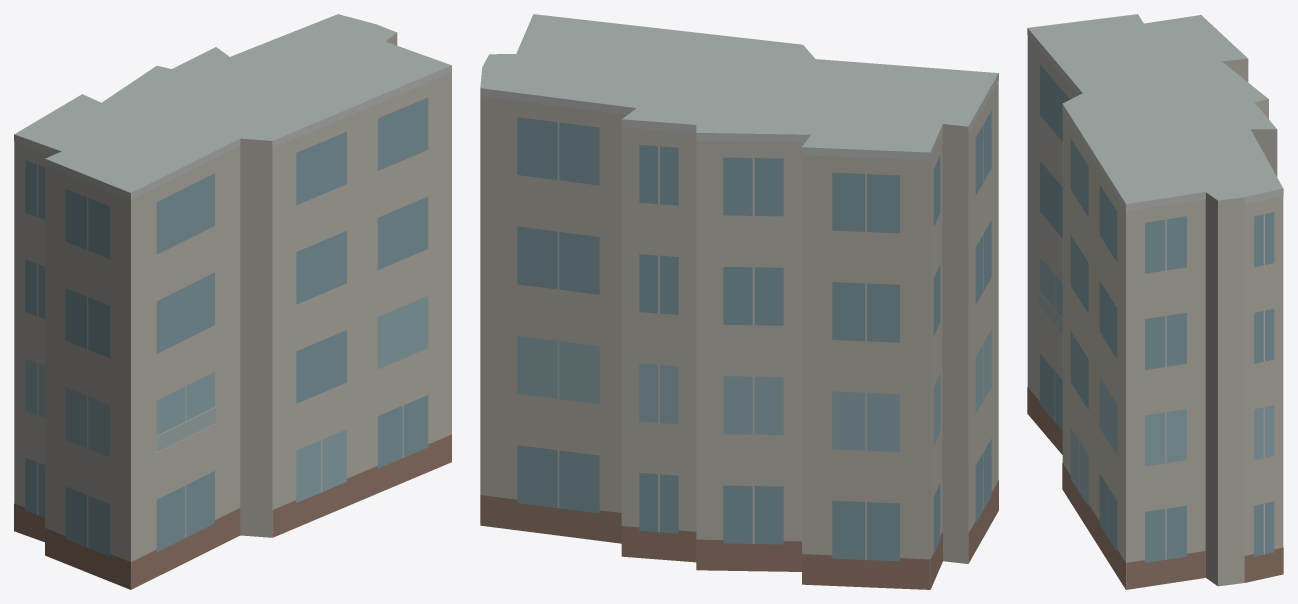
Rendered from survey-upis-32735481.glb.
3 renders of one model, left to right at view 1: azimuth 30°, elevation 25°; view 2: azimuth 150°, elevation 25°; view 3: azimuth 270°, elevation 25°, orthographic. The views are drawn at different scales.
Visible parts, largest first — view 1: survey-upis-32735481.tmp; view 2: survey-upis-32735481.tmp; view 3: survey-upis-32735481.tmp.
Part boxes in pixels (bbox=[...]): survey-upis-32735481.tmp: bbox=[14, 14, 451, 589]; survey-upis-32735481.tmp: bbox=[480, 14, 998, 589]; survey-upis-32735481.tmp: bbox=[1027, 14, 1283, 589].
Bounding box in the file's own units: 14.01 × 13.25 × 7.98.
